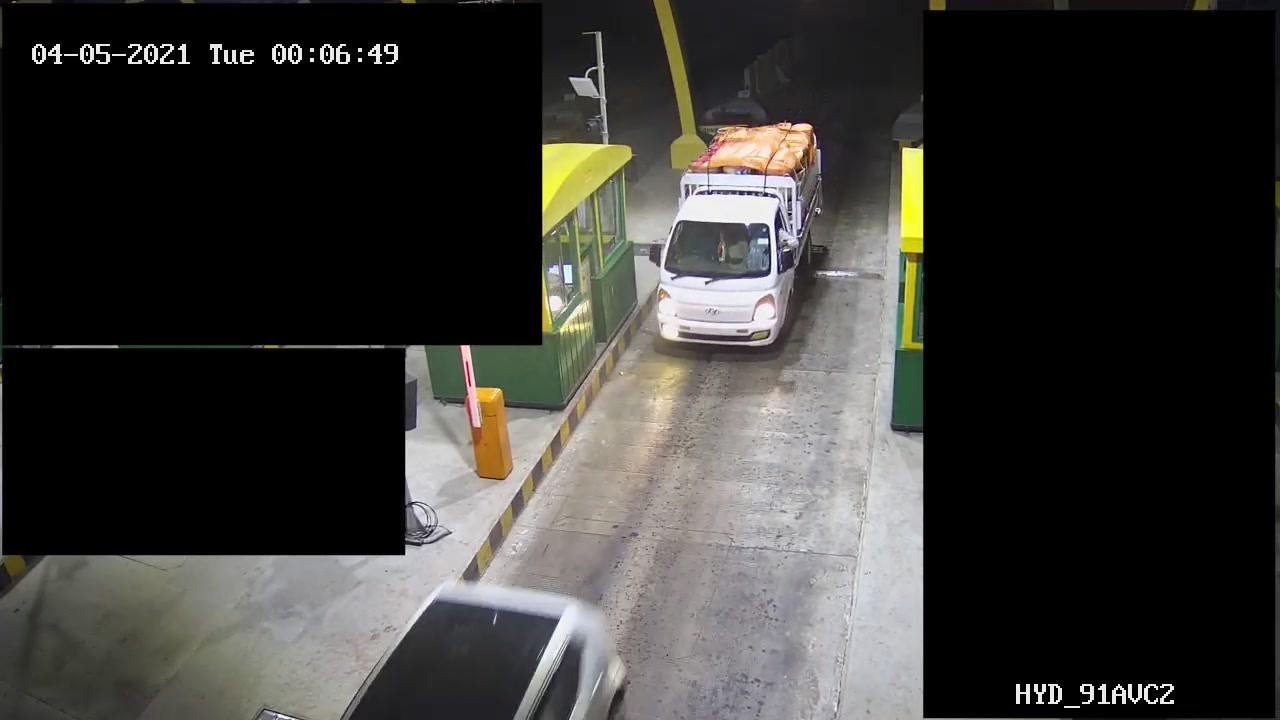F3: (645, 110, 838, 357)
